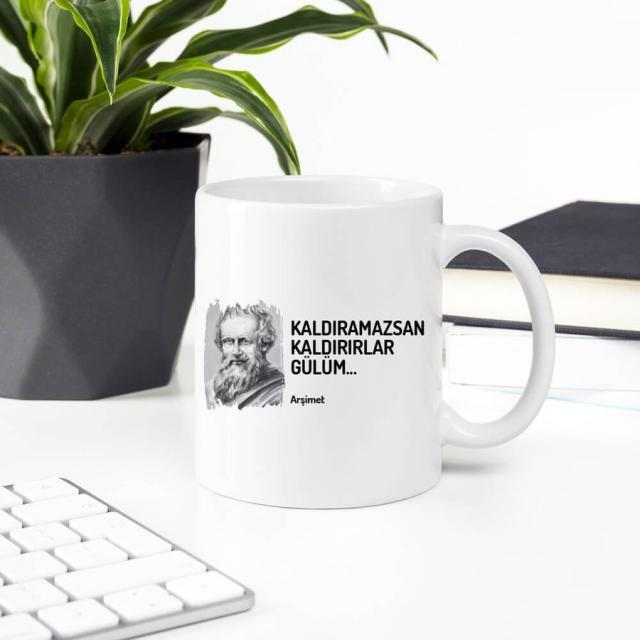Coffee Mug: (193, 174, 556, 508)
